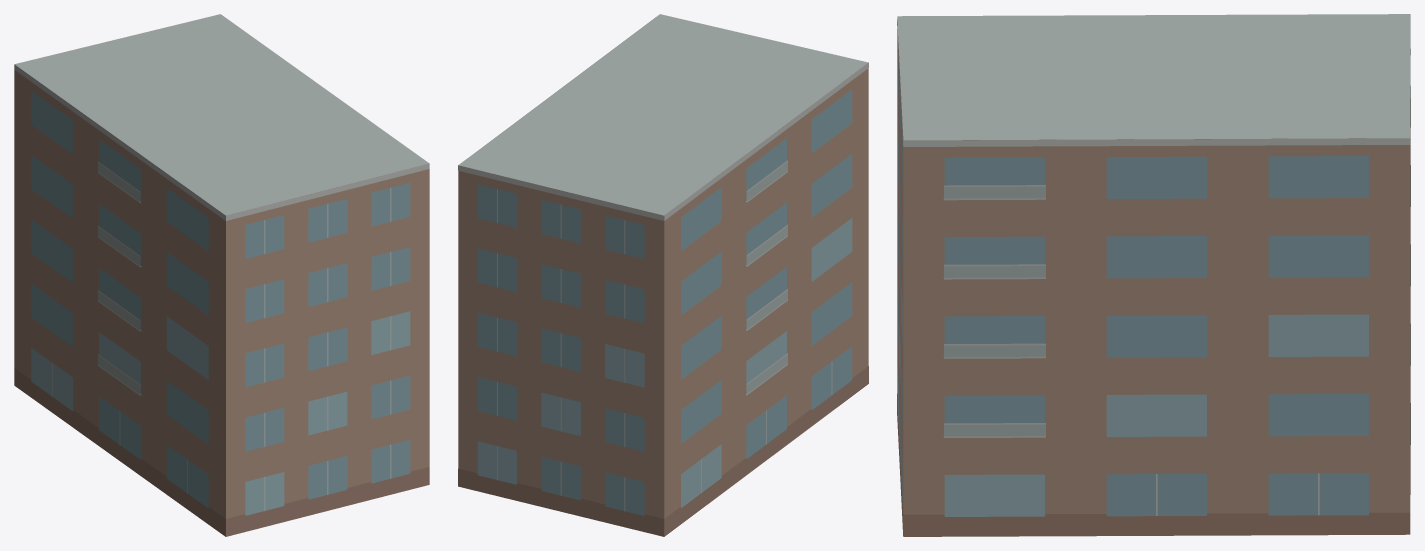
The model's file is survey-upis-32767996.glb.
The picture shows the model from 3 angles, left to right: view 1: azimuth 30°, elevation 25°; view 2: azimuth 150°, elevation 25°; view 3: azimuth 270°, elevation 25°; orthographic projection. The views are drawn at different scales.
Visible parts, largest first — view 1: survey-upis-32767996.tmp; view 2: survey-upis-32767996.tmp; view 3: survey-upis-32767996.tmp.
Boxes of the visible parts, left/top/right/bottom form: survey-upis-32767996.tmp: left=14, top=14, right=429, bottom=536; survey-upis-32767996.tmp: left=458, top=14, right=868, bottom=536; survey-upis-32767996.tmp: left=897, top=14, right=1410, bottom=536.
Bounding box in the file's own units: 9.94 × 14.5 × 17.03.
